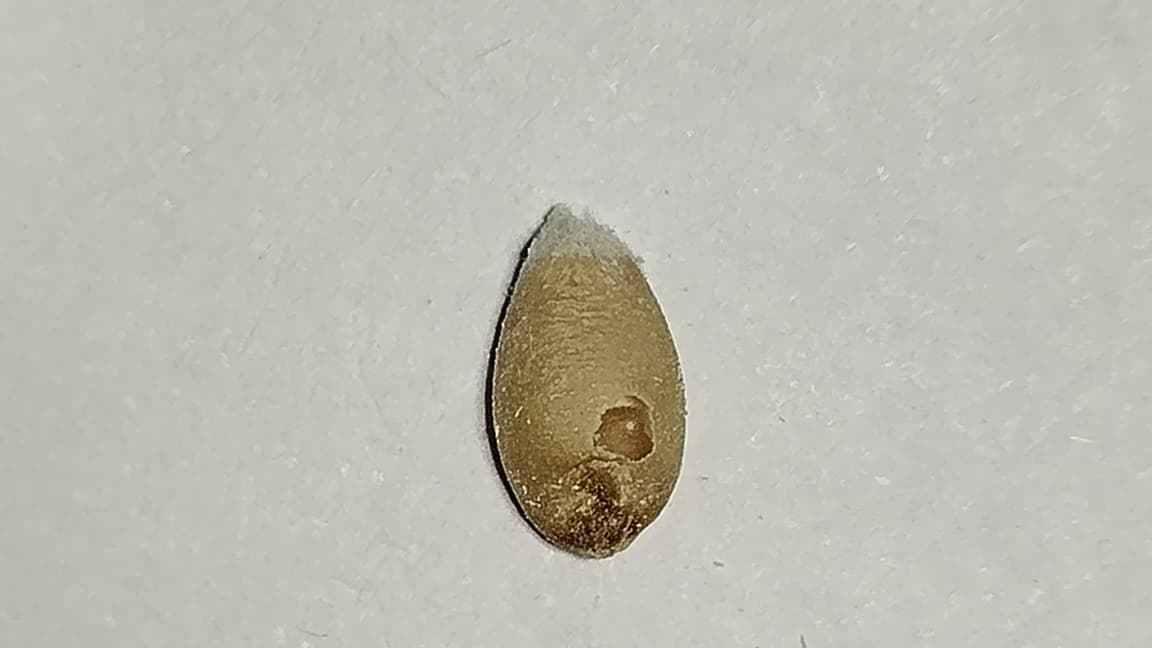damage: (487, 205, 685, 555)
insectdamage: (572, 388, 679, 461)
staindamage: (551, 459, 652, 557)
